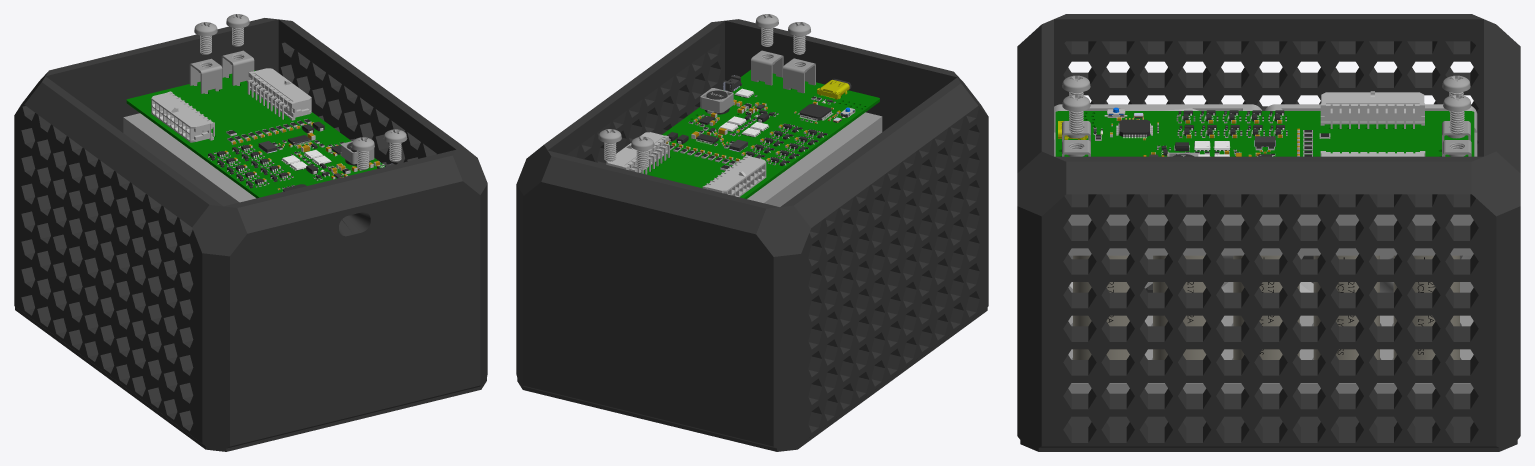
File: battery_design.fbx
3 renders of one model, left to right at view 1: azimuth 30°, elevation 25°; view 2: azimuth 150°, elevation 25°; view 3: azimuth 270°, elevation 25°, orthographic. The views are drawn at different scales.
Parts seen in each view (by area): view 1: Shell, Body1 (×9), Top Battery Support; view 2: Shell, Body1 (×10), Top Battery Support; view 3: Shell, Body1 (×8), Body2 (×5), Top Battery Support, Bottom Battery Support.
Part boxes in pixels (x1,y1,x2,y2): Shell: [14, 18, 487, 451]; Body1 (×9): [126, 14, 407, 198]; Top Battery Support: [123, 113, 255, 206]; Shell: [516, 19, 988, 451]; Body1 (×10): [598, 14, 879, 198]; Top Battery Support: [747, 112, 882, 206]; Shell: [1017, 14, 1520, 451]; Body1 (×8): [1054, 91, 1477, 292]; Body2 (×5): [1073, 255, 1459, 359]; Top Battery Support: [1054, 132, 1477, 255]; Bottom Battery Support: [1068, 315, 1473, 393].
Size of the model in its own units: 130 by 115 by 165.
